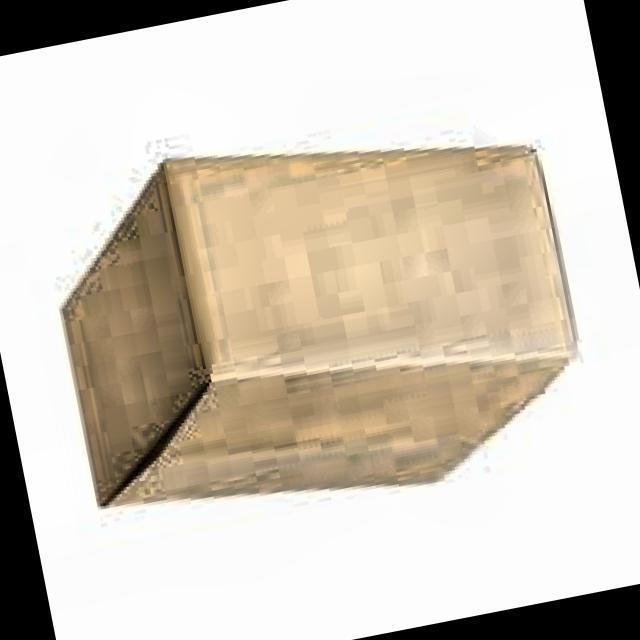cardboard: (35, 88, 602, 552)
